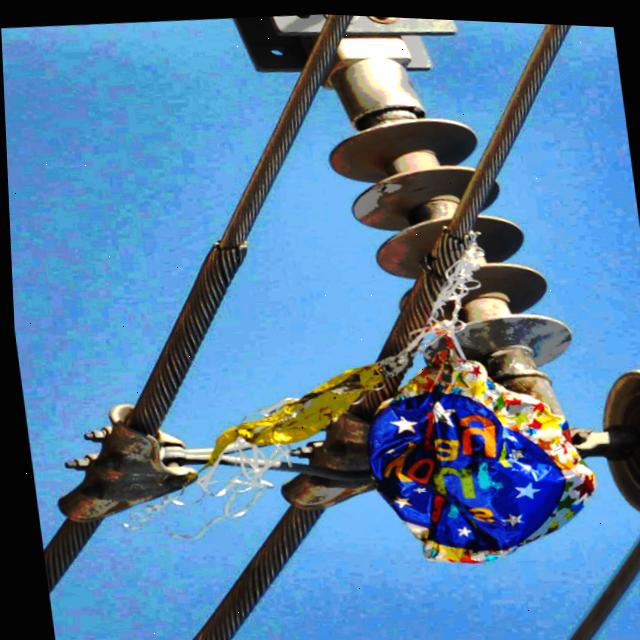obstruction: (156, 239, 594, 557), (141, 486, 179, 511)
poles: (322, 12, 476, 274), (54, 395, 370, 521), (453, 208, 569, 414), (562, 364, 640, 506), (234, 11, 327, 68)
wires: (123, 12, 351, 432), (453, 19, 569, 223), (183, 502, 319, 640), (560, 526, 640, 640), (377, 262, 437, 353), (39, 516, 94, 591)
